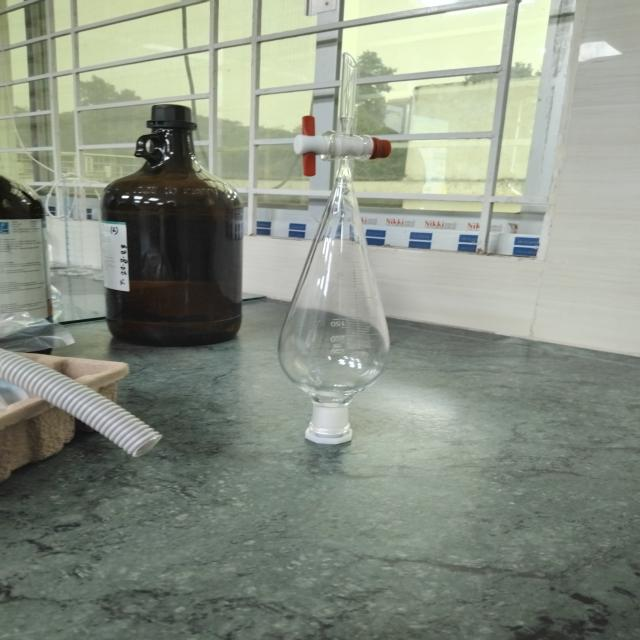Separating_Funnel: (242, 41, 454, 466)
